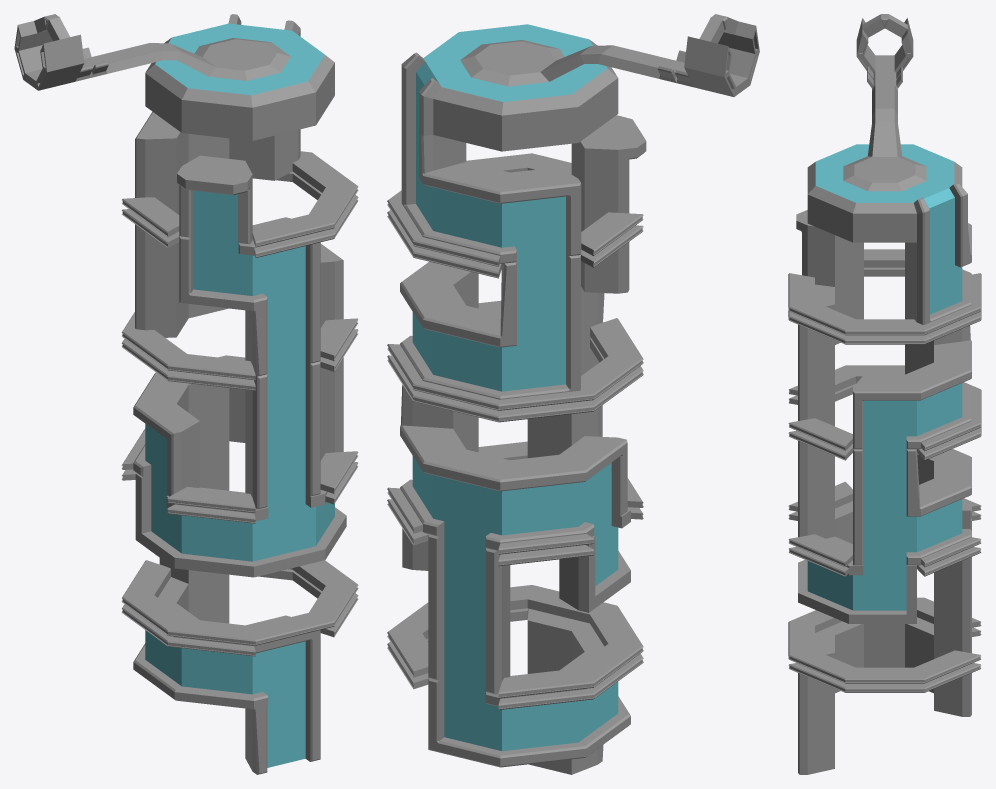
Rendered from Pillar.fbx.
3 views of the same model, side by side, from view 1: azimuth 30°, elevation 25°; view 2: azimuth 150°, elevation 25°; view 3: azimuth 270°, elevation 25° (orthographic). The views are drawn at different scales.
Parts seen in each view (by area): view 1: Track.004, Track.002, Track.003, MagnetPanel.006, Track, MagnetPanel, MagnetPanel.003, MagnetPanel.001, Track.001, MagnetPanel.004, MagnetPanel.002, Cylinder.017 (+19 smaller); view 2: Track.004, Track.002, MagnetPanel.004, Track.003, MagnetPanel.006, MagnetPanel.003, Track.001, Track, MagnetPanel.002, MagnetPanel, MagnetPanel.001, Cylinder.003 (+23 smaller); view 3: Track.004, Track.003, Track, Track.002, MagnetPanel.004, MagnetPanel.006, MagnetPanel.002, Track.001, MagnetPanel.003, MagnetPanel.001, Cylinder.026, Cylinder.005 (+27 smaller).
Part boxes in pixels (x1=…): Track.004: x1=135, y1=14, x2=334, y2=244; Track.002: x1=133, y1=355, x2=343, y2=509; Track.003: x1=135, y1=201, x2=343, y2=376; MagnetPanel.006: x1=14, y1=14, x2=290, y2=90; Track: x1=133, y1=574, x2=320, y2=774; MagnetPanel: x1=145, y1=630, x2=305, y2=767; MagnetPanel.003: x1=193, y1=234, x2=305, y2=369; MagnetPanel.001: x1=151, y1=476, x2=334, y2=561; Track.001: x1=135, y1=441, x2=346, y2=583; MagnetPanel.004: x1=155, y1=23, x2=324, y2=238; MagnetPanel.002: x1=145, y1=360, x2=305, y2=502; Cylinder.017: x1=167, y1=354, x2=255, y2=380; Track.004: x1=401, y1=40, x2=646, y2=263; Track.002: x1=400, y1=336, x2=627, y2=550; MagnetPanel.004: x1=416, y1=24, x2=607, y2=257; Track.003: x1=400, y1=215, x2=629, y2=399; MagnetPanel.006: x1=460, y1=14, x2=759, y2=96; MagnetPanel.003: x1=412, y1=252, x2=565, y2=391; Track.001: x1=402, y1=507, x2=630, y2=694; Track: x1=428, y1=608, x2=630, y2=774; MagnetPanel.002: x1=412, y1=456, x2=611, y2=542; MagnetPanel: x1=444, y1=677, x2=618, y2=751; MagnetPanel.001: x1=444, y1=514, x2=618, y2=686; Cylinder.003: x1=498, y1=670, x2=593, y2=698; Track.004: x1=796, y1=162, x2=971, y2=324; Track.003: x1=798, y1=275, x2=971, y2=449; Track: x1=798, y1=617, x2=971, y2=774; Track.002: x1=798, y1=420, x2=971, y2=565; MagnetPanel.004: x1=815, y1=144, x2=962, y2=314; MagnetPanel.006: x1=843, y1=14, x2=926, y2=191; MagnetPanel.002: x1=863, y1=446, x2=962, y2=561; Track.001: x1=798, y1=501, x2=971, y2=654; MagnetPanel.003: x1=863, y1=383, x2=962, y2=445; MagnetPanel.001: x1=807, y1=561, x2=906, y2=610; Cylinder.026: x1=845, y1=319, x2=924, y2=335; Cylinder.005: x1=845, y1=667, x2=924, y2=683.
Size of the model in its own units: 4.81 by 11.46 by 3.01.
